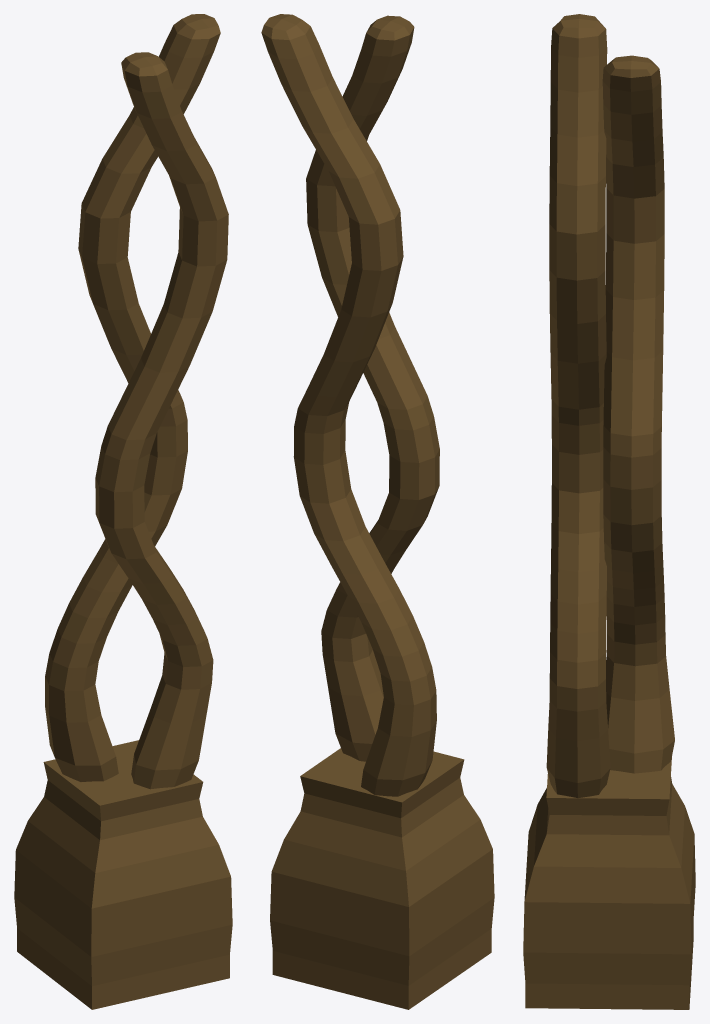
The model's file is S_LowCoatStand.fbx.
3 views of the same model, side by side, from view 1: azimuth 30°, elevation 25°; view 2: azimuth 150°, elevation 25°; view 3: azimuth 270°, elevation 25° (orthographic). The views are drawn at different scales.
Parts seen in each view (by area): view 1: S_CoatStand; view 2: S_CoatStand; view 3: S_CoatStand.
Part boxes in pixels (bbox=[...]): S_CoatStand: bbox=[14, 14, 232, 1009]; S_CoatStand: bbox=[261, 14, 494, 1009]; S_CoatStand: bbox=[523, 14, 695, 1009].
Size of the model in its own units: 37.31 by 186 by 30.4.
